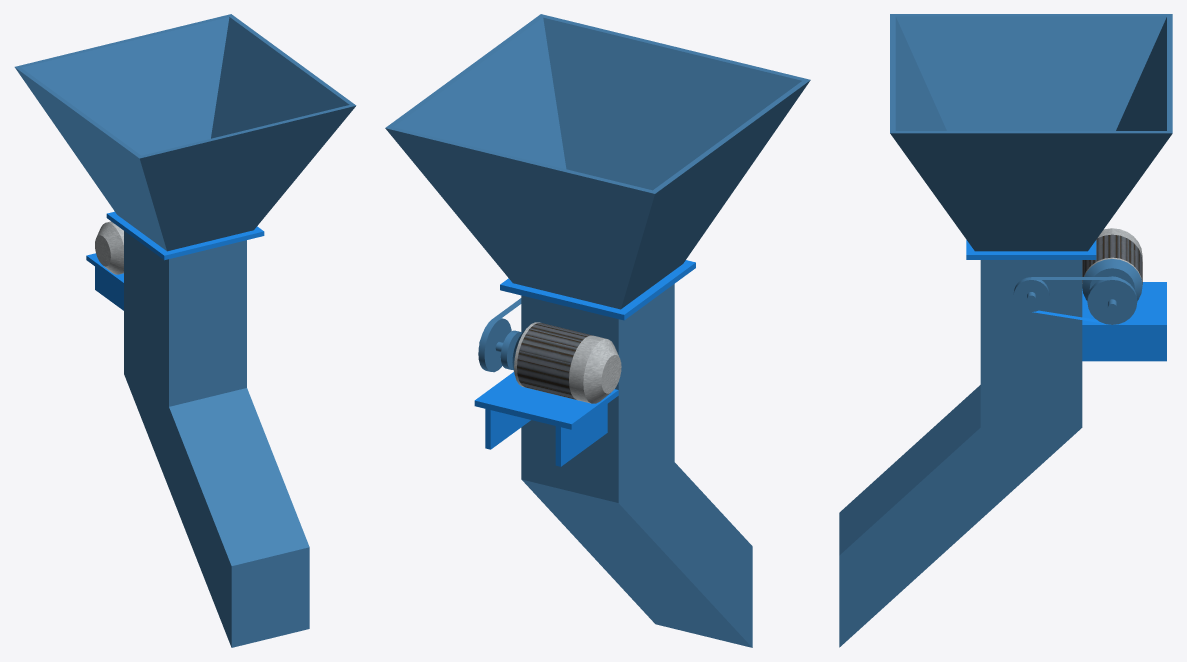
The model's file is 关风机.glb.
3 views of the same model, side by side, from view 1: azimuth 30°, elevation 25°; view 2: azimuth 150°, elevation 25°; view 3: azimuth 270°, elevation 25° (orthographic). The views are drawn at different scales.
Parts seen in each view (by area): view 1: root; view 2: root; view 3: root.
Part boxes in pixels (left/top/right/bottom): root: left=14, top=14, right=356, bottom=647; root: left=385, top=14, right=810, bottom=647; root: left=839, top=14, right=1172, bottom=647.
Bounding box in the file's own units: 1 × 2.16 × 1.18.
4 materials, 2 textured.
